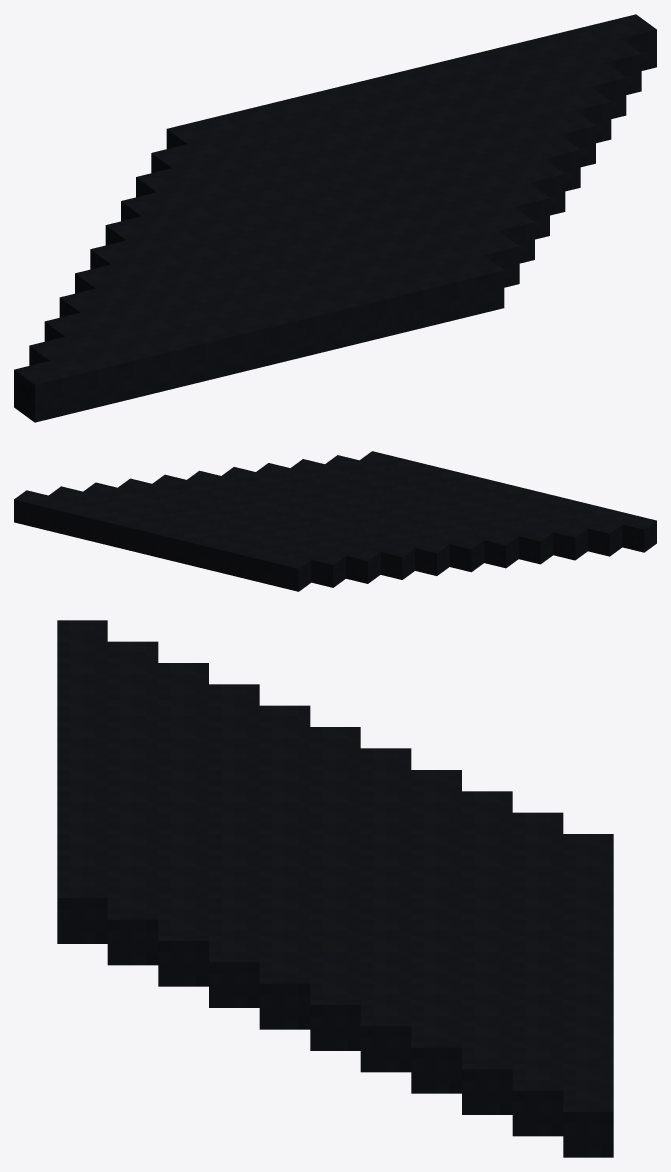
The model's file is CurvaV2.fbx.
3 views of the same model, one above another, from view 1: azimuth 30°, elevation 25°; view 2: azimuth 150°, elevation 25°; view 3: azimuth 270°, elevation 25° (orthographic). The views are drawn at different scales.
Parts seen in each view (by area): view 1: Curva V 2; view 2: Curva V 2; view 3: Curva V 2.
Part boxes in pixels (bbox=[...]): Curva V 2: bbox=[14, 14, 656, 422]; Curva V 2: bbox=[14, 451, 656, 591]; Curva V 2: bbox=[57, 620, 613, 1157].
Bounding box in the file's own units: 2300 × 100 × 1100.
Materials: 1 (1 with a texture image).
